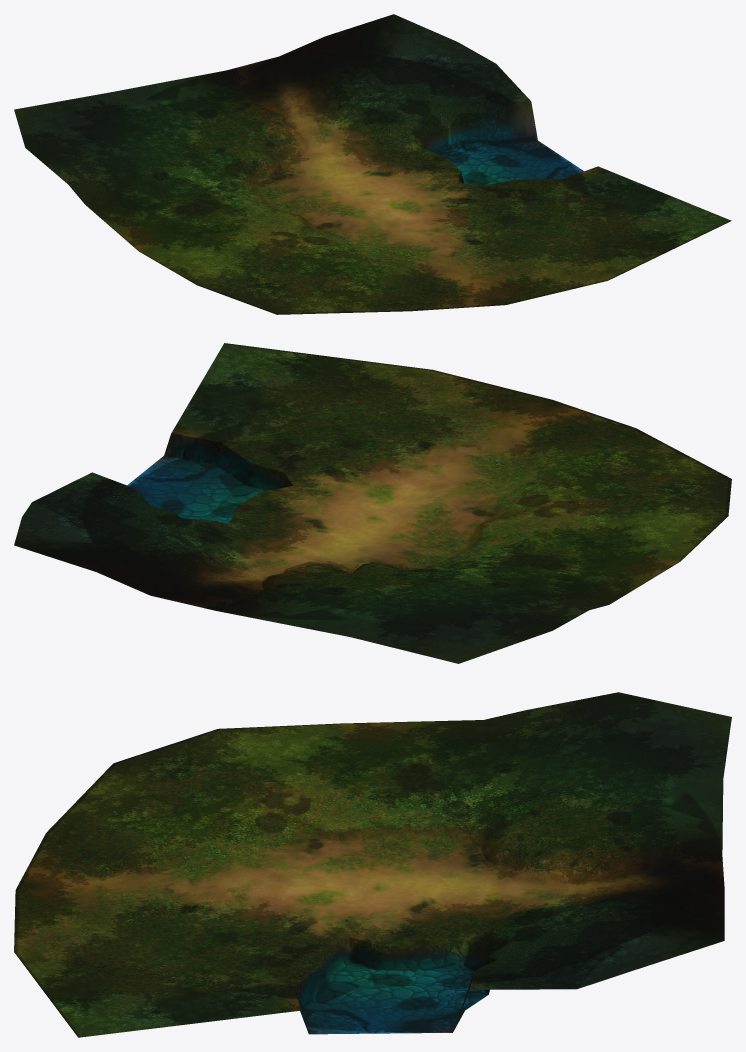
File: floor.gltf
3 views of the same model, one above another, from view 1: azimuth 30°, elevation 25°; view 2: azimuth 150°, elevation 25°; view 3: azimuth 270°, elevation 25° (orthographic). The views are drawn at different scales.
Visible parts, largest first — view 1: BackSide_0.005; view 2: BackSide_0.005; view 3: BackSide_0.005.
Boxes of the visible parts, left/top/right/bottom form: BackSide_0.005: left=14, top=14, right=731, bottom=314; BackSide_0.005: left=14, top=343, right=731, bottom=663; BackSide_0.005: left=14, top=692, right=731, bottom=1037.
Bounding box in the file's own units: 50.33 × 5.46 × 50.73.
Materials: 1 (1 with a texture image).
